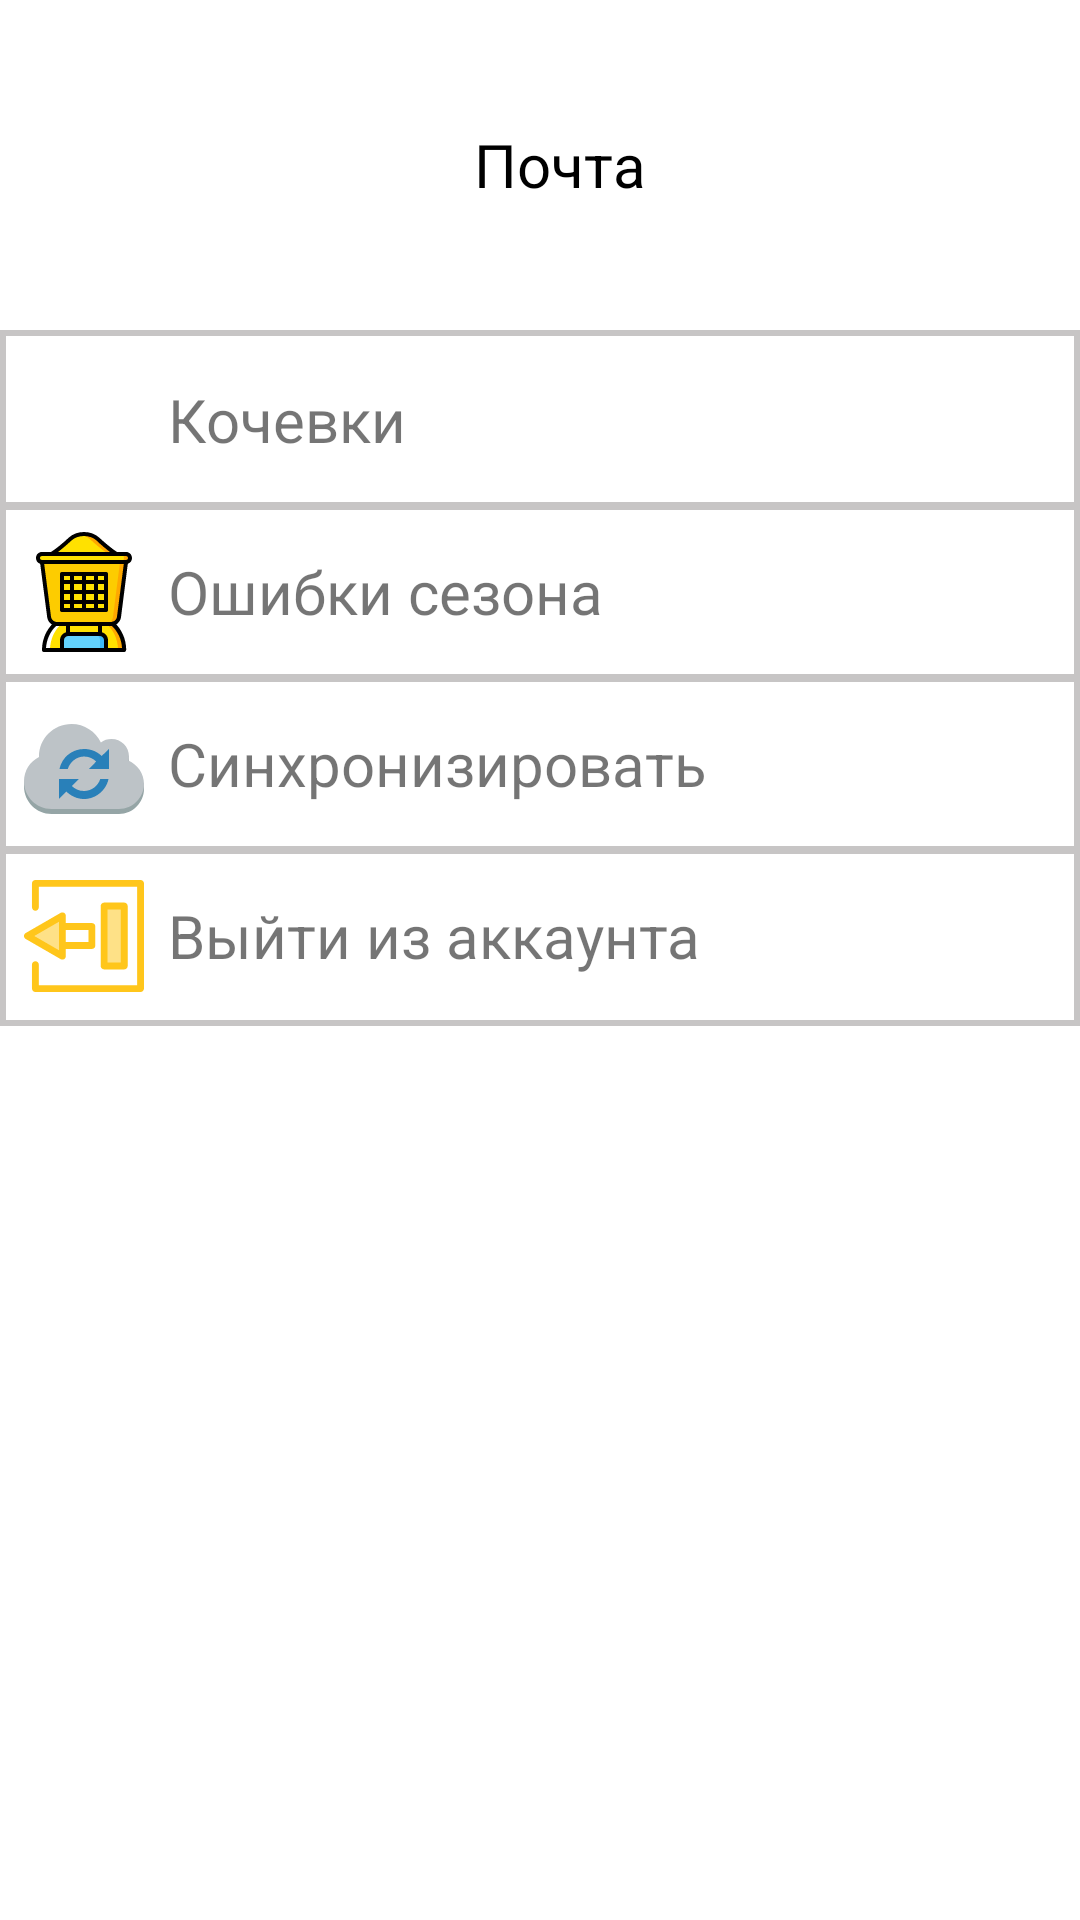

Point at icon controls on the screen. Image size 1080w x 1920h, points as (x=x, y=y).
sync: (x=84, y=769)
